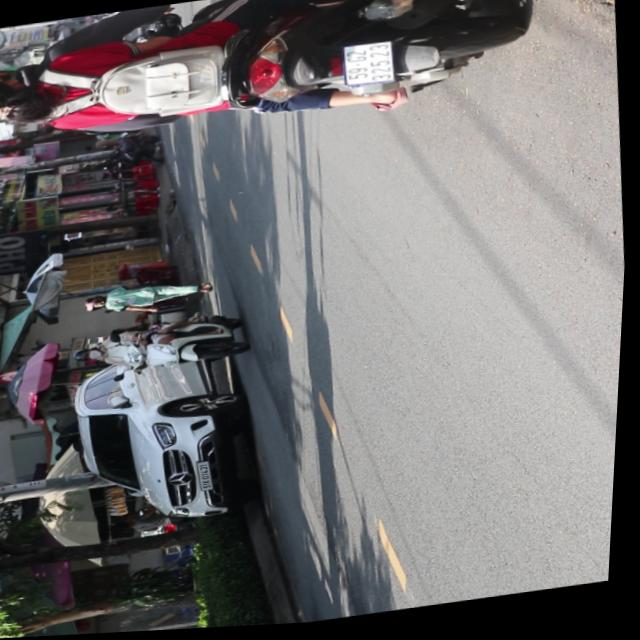helmet: (72, 347, 108, 365)
licenseplate: (0, 0, 535, 170), (69, 310, 256, 383)
motorcyclist: (0, 64, 46, 124)
nohelmet: (343, 44, 395, 89)
